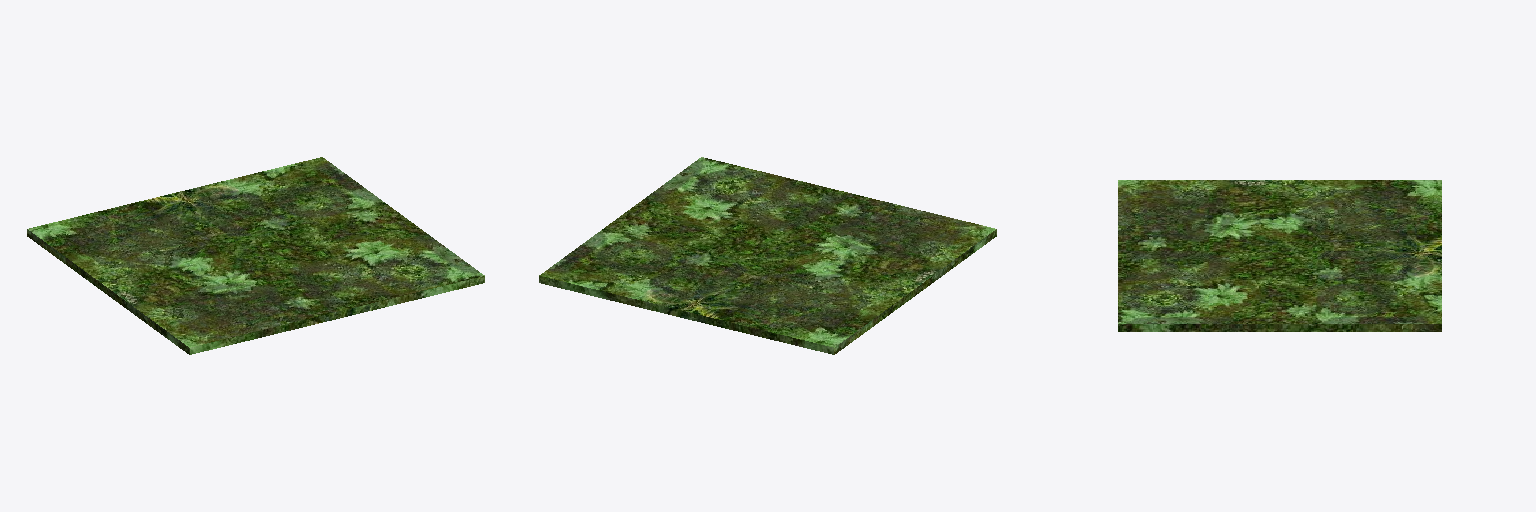
3 views of the same model, side by side, from view 1: azimuth 30°, elevation 25°; view 2: azimuth 150°, elevation 25°; view 3: azimuth 270°, elevation 25° (orthographic).
Visible parts, largest first — view 1: forest_floor; view 2: forest_floor; view 3: forest_floor.
Boxes of the visible parts, box(x1,y1,x2,y2) form: forest_floor: box(27, 157, 484, 354); forest_floor: box(539, 157, 996, 354); forest_floor: box(1118, 180, 1441, 331).
Bounding box in the file's own units: 42 × 1 × 40.
1 materials, 1 textured.